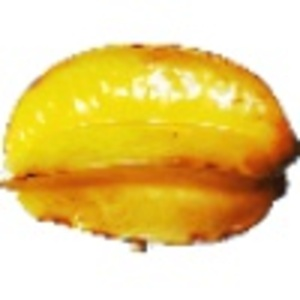carambola: (1, 41, 300, 256)
